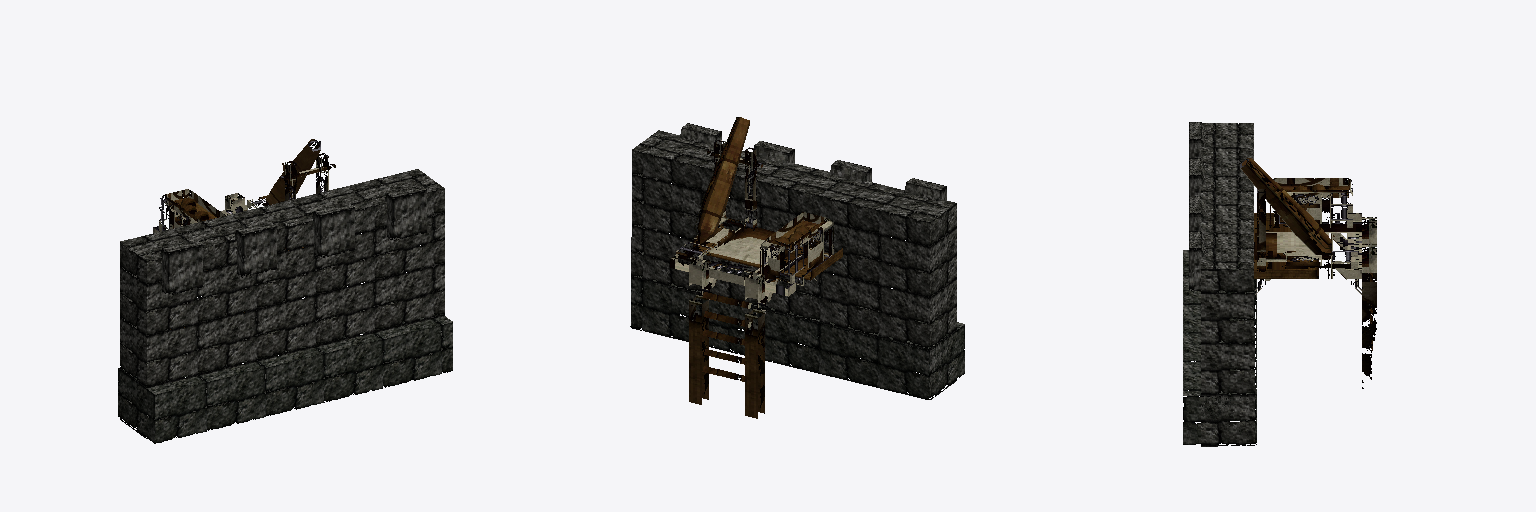
3 views of the same model, side by side, from view 1: azimuth 30°, elevation 25°; view 2: azimuth 150°, elevation 25°; view 3: azimuth 270°, elevation 25° (orthographic).
Parts seen in each view (by area): view 1: Mesh_0, Mesh_2, Mesh_1; view 2: Mesh_0, Mesh_1, Mesh_2; view 3: Mesh_0, Mesh_1, Mesh_2.
Boxes of the visible parts, x1=… form: Mesh_0: x1=120, y1=169, x2=444, y2=438; Mesh_2: x1=118, y1=301, x2=452, y2=443; Mesh_1: x1=153, y1=139, x2=335, y2=329; Mesh_0: x1=631, y1=123, x2=956, y2=399; Mesh_1: x1=670, y1=117, x2=842, y2=418; Mesh_2: x1=630, y1=276, x2=964, y2=399; Mesh_0: x1=1189, y1=122, x2=1254, y2=446; Mesh_1: x1=1240, y1=158, x2=1376, y2=388; Mesh_2: x1=1183, y1=250, x2=1256, y2=444.
Size of the model in its own units: 3.98 by 3.01 by 2.24.
Materials: 3 (3 with a texture image).